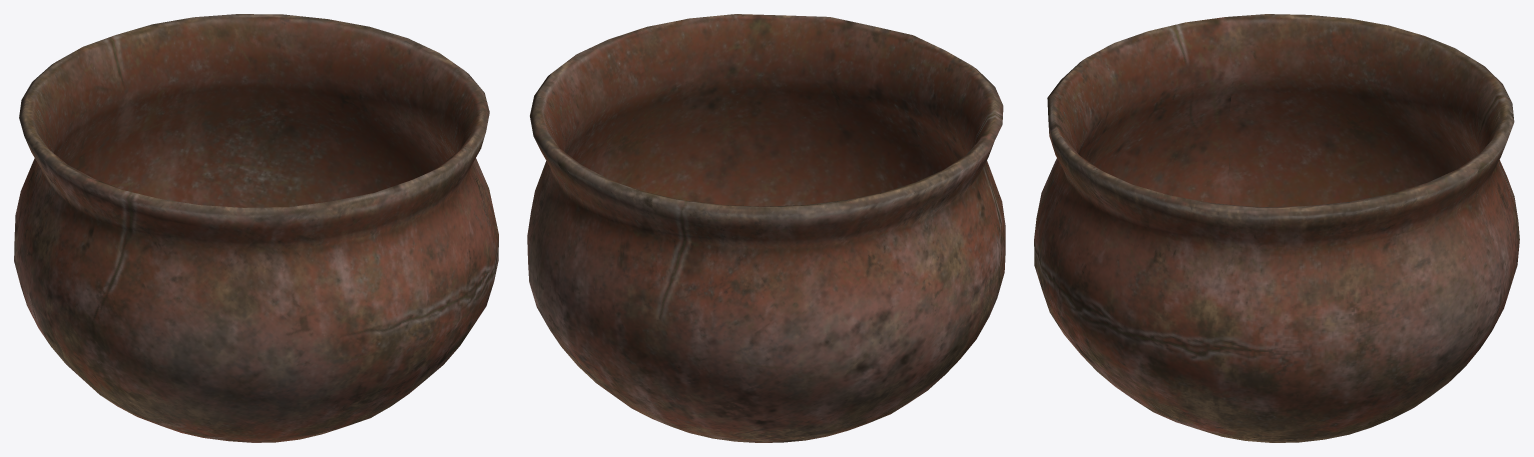
The model's file is NPC_Beggar_Pot.FBX.
3 renders of one model, left to right at view 1: azimuth 30°, elevation 25°; view 2: azimuth 150°, elevation 25°; view 3: azimuth 270°, elevation 25°, orthographic.
Parts seen in each view (by area): view 1: NPC_Beggar_03_Pot; view 2: NPC_Beggar_03_Pot; view 3: NPC_Beggar_03_Pot.
Boxes of the visible parts, x1,y1,x2,y2 form: NPC_Beggar_03_Pot: (14, 14, 498, 442); NPC_Beggar_03_Pot: (527, 14, 1005, 442); NPC_Beggar_03_Pot: (1034, 14, 1519, 442).
Size of the model in its own units: 41.42 by 26.74 by 41.67.
